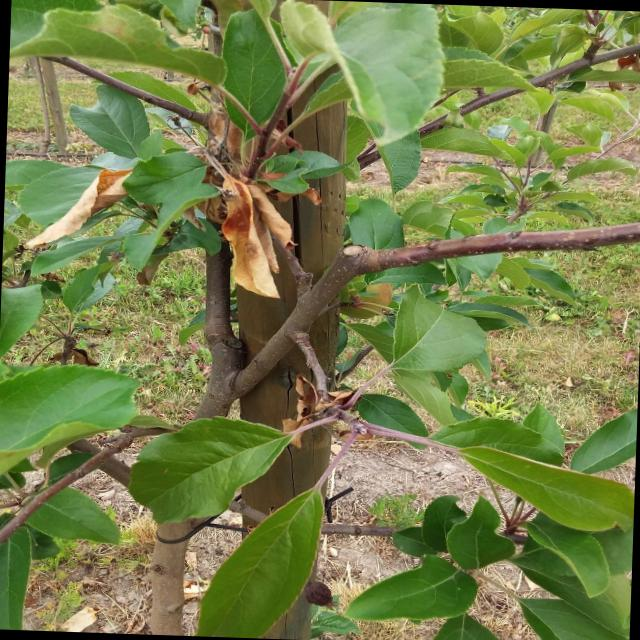-FireBlight-: (186, 102, 320, 296), (31, 178, 156, 230), (292, 384, 351, 426)
